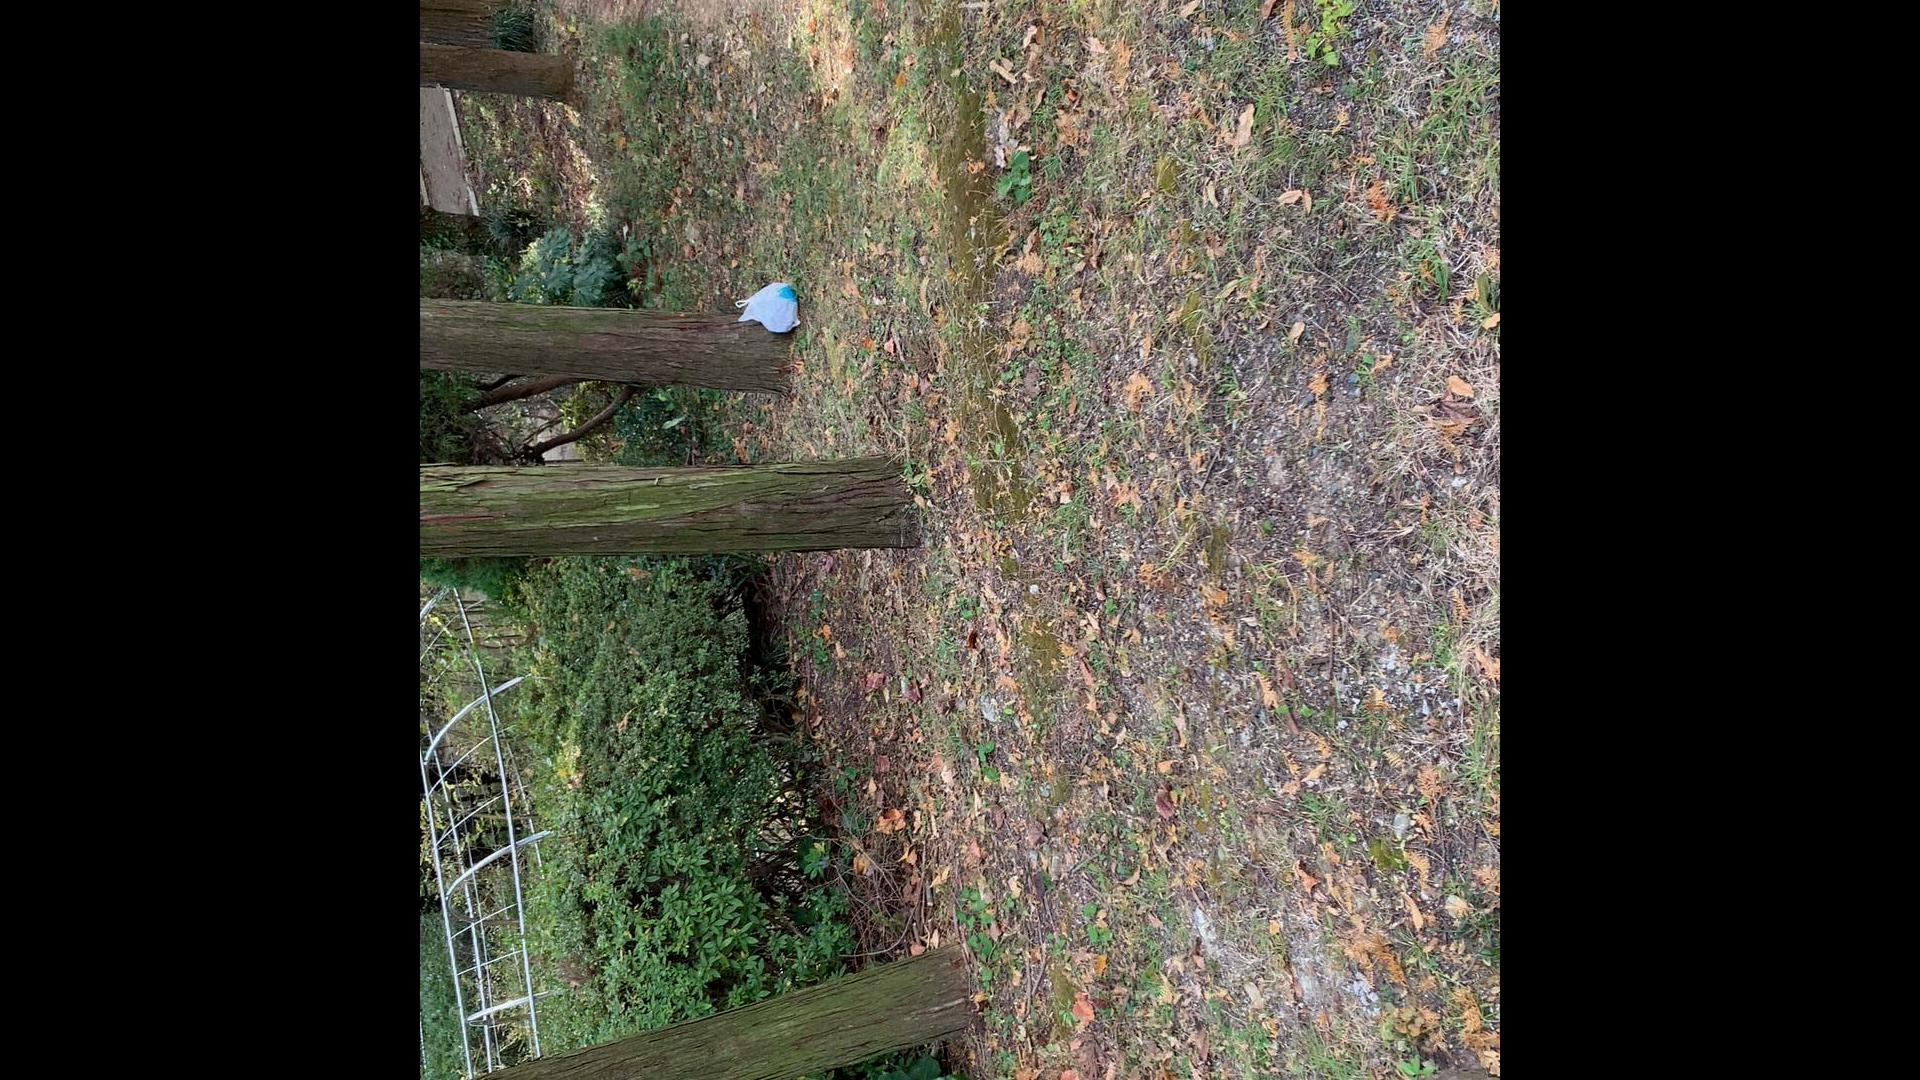white_bag: (731, 278, 807, 338)
